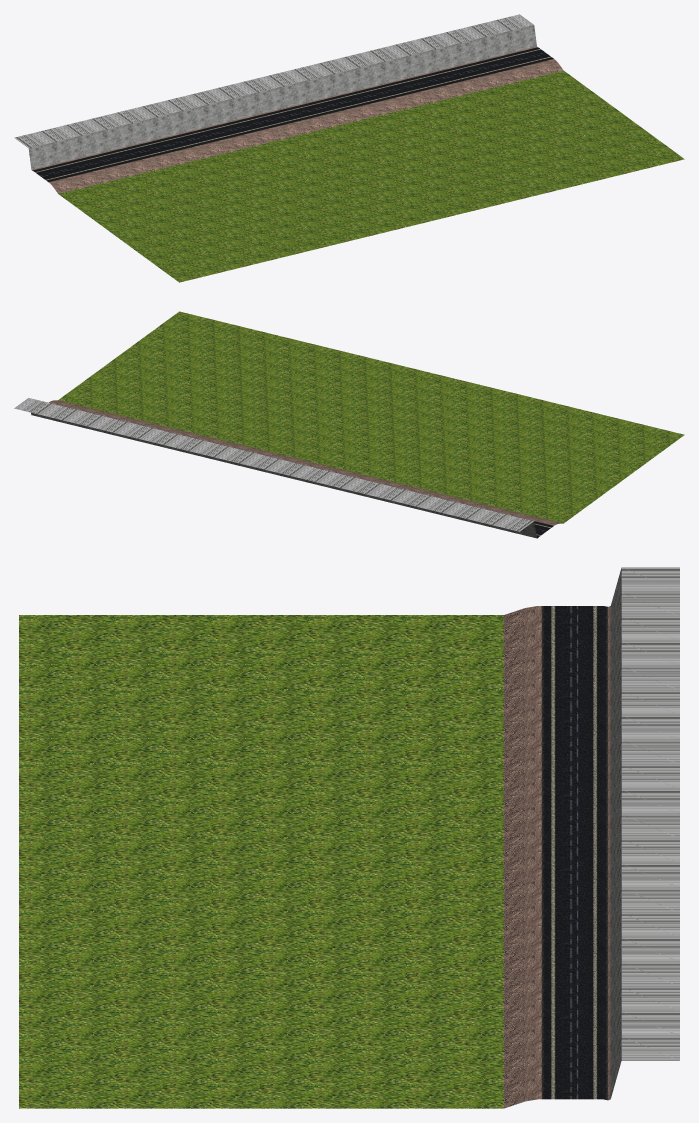
File: Map.dae
3 renders of one model, top to bottom at view 1: azimuth 30°, elevation 25°; view 2: azimuth 150°, elevation 25°; view 3: azimuth 270°, elevation 25°, orthographic. The views are drawn at different scales.
Visible parts, largest first — view 1: Cube; view 2: Cube; view 3: Cube.
Part boxes in pixels (box(x1,y1,x2,y2)): Cube: box(14, 14, 684, 282); Cube: box(14, 311, 684, 538); Cube: box(19, 567, 679, 1108).
Size of the model in its own units: 40 by 22.65 by 1.81.
4 materials, 4 textured.
